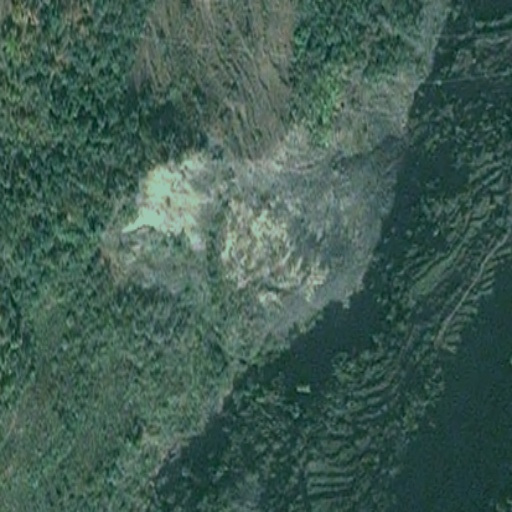landslide: (122, 154, 318, 266)
